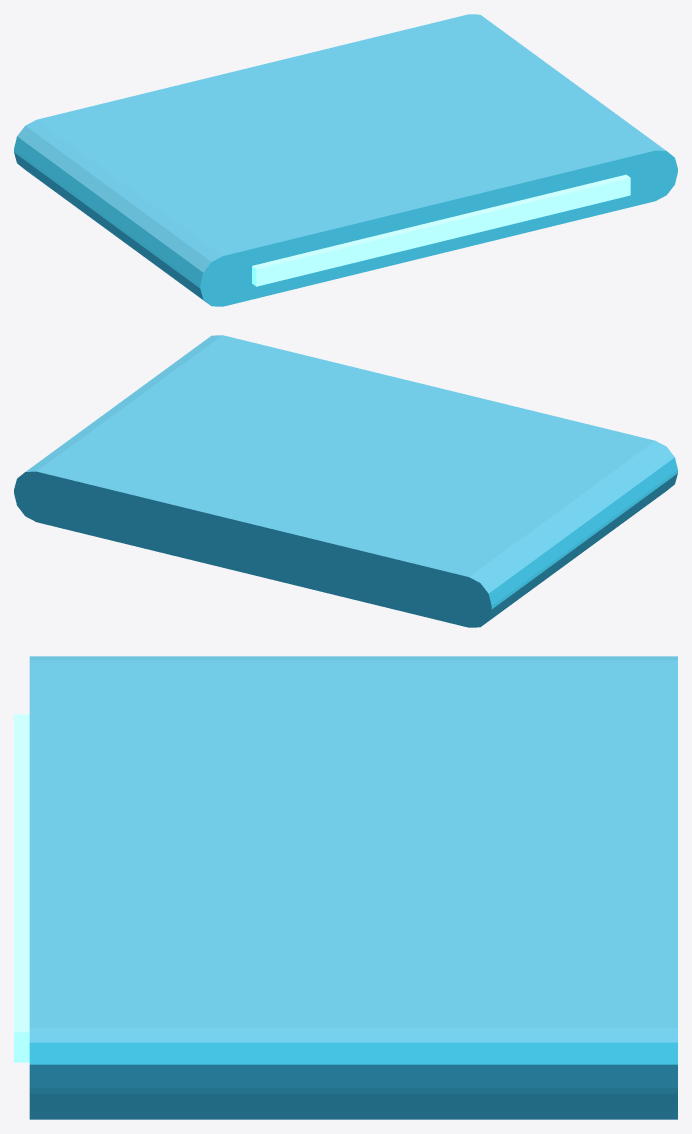
Rendered from Plate_Pad.gltf.
3 renders of one model, top to bottom at view 1: azimuth 30°, elevation 25°; view 2: azimuth 150°, elevation 25°; view 3: azimuth 270°, elevation 25°, orthographic. The views are drawn at different scales.
Visible parts, largest first — view 1: Plate_Pad_baked; view 2: Plate_Pad_baked; view 3: Plate_Pad_baked.
Part boxes in pixels (x1,y1,x2,y2): Plate_Pad_baked: (14, 14, 677, 306); Plate_Pad_baked: (14, 335, 677, 627); Plate_Pad_baked: (14, 656, 677, 1119).
Bounding box in the file's own units: 0.74 × 0.075 × 0.512.
